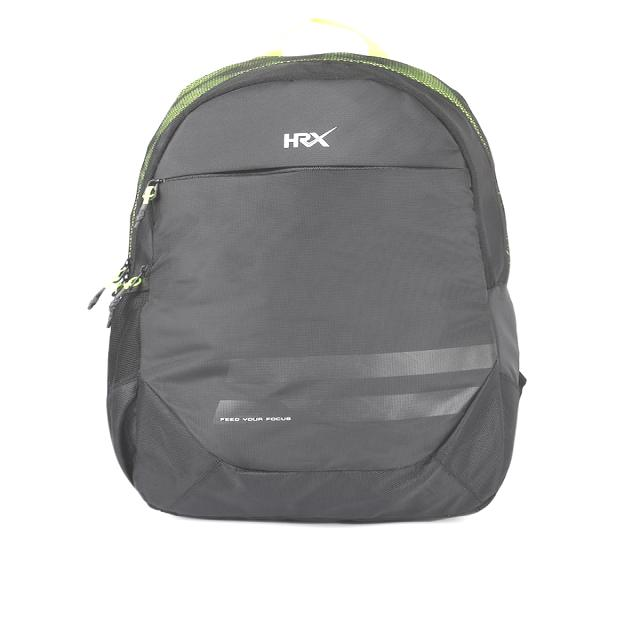backpack: (90, 19, 528, 525)
